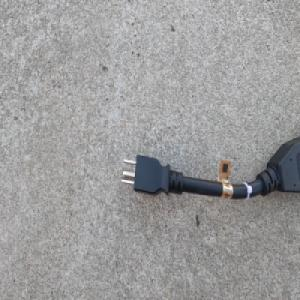Wire: (118, 134, 300, 208)
